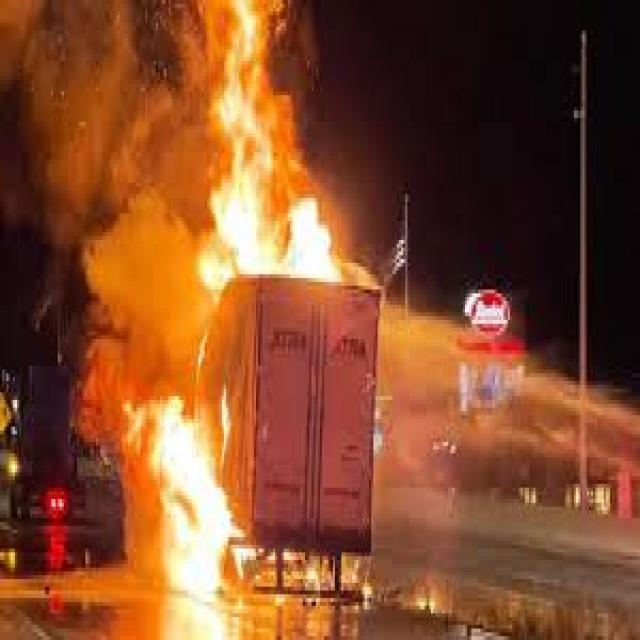fire: (192, 4, 348, 286), (128, 388, 245, 602), (292, 548, 448, 624)
smoke: (2, 4, 203, 442)
